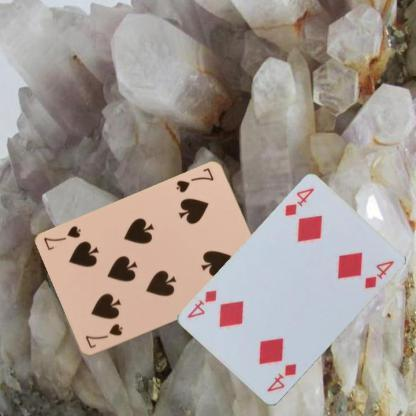4d: (282, 185, 315, 218), (264, 362, 298, 394)
7s: (82, 321, 124, 350), (173, 165, 215, 194)
